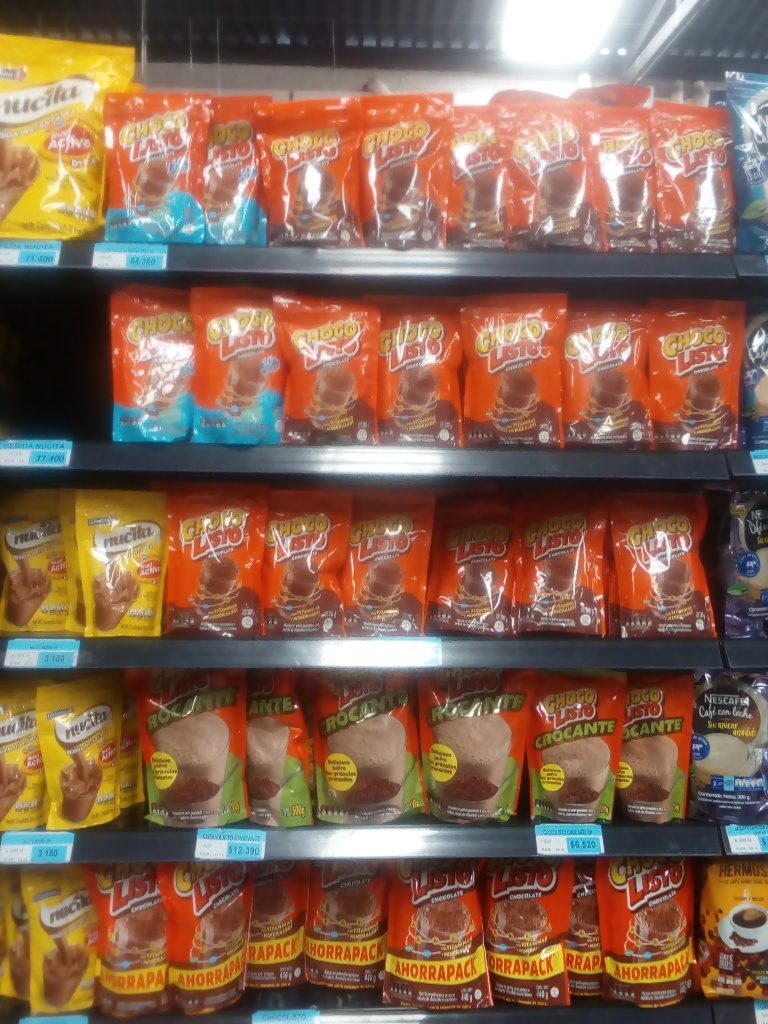COL0170102DYP25000: (619, 672, 694, 824)
COL0170102DYP50000: (417, 670, 528, 824)
COL0170103DYP44000: (597, 855, 699, 1008)
COL0170104DYP20000: (201, 93, 272, 247)
